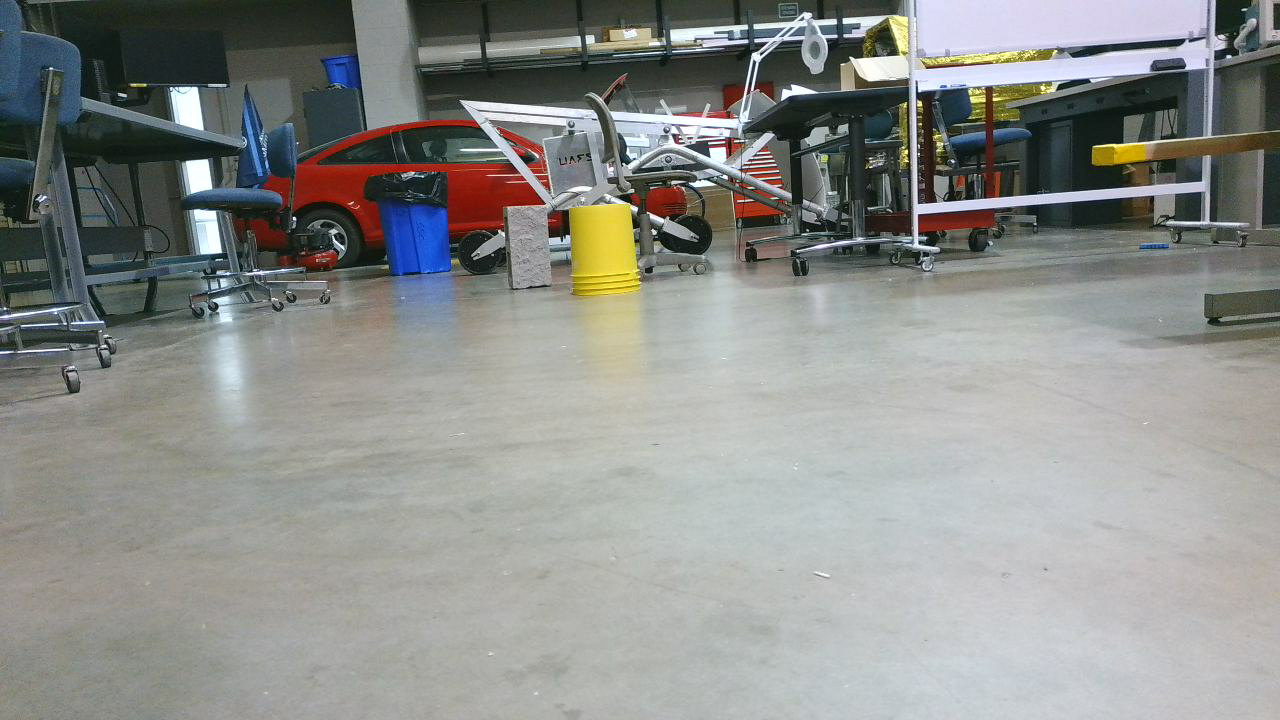yellow_bucket: (570, 208, 653, 303)
